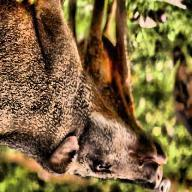boar: (2, 1, 170, 184)
